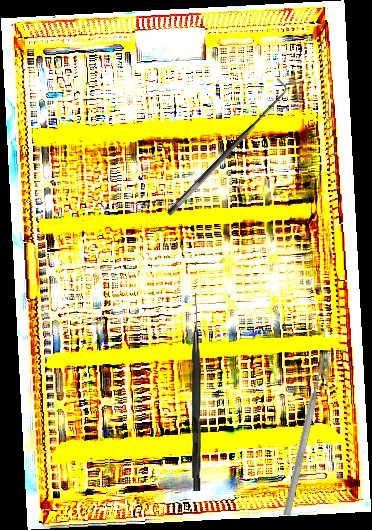Hook Surgical: (156, 76, 296, 218), (189, 292, 203, 492)
Pusher: (281, 356, 329, 517)
